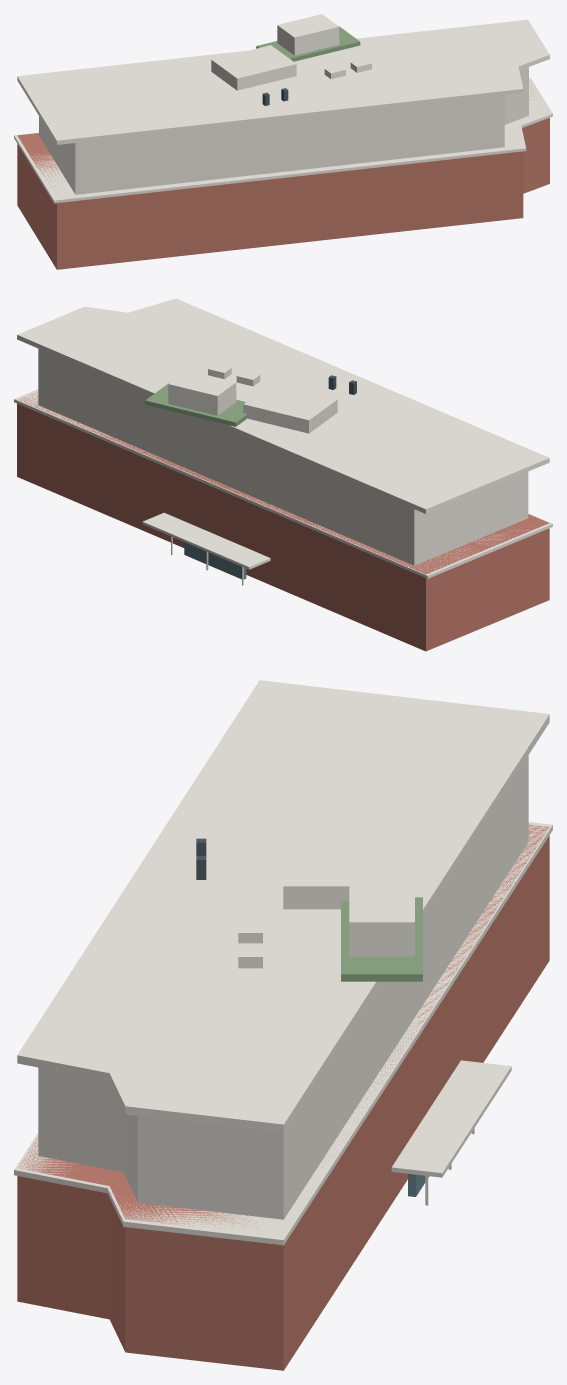
The model's file is chung_sze_yuen_building.glb.
3 views of the same model, one above another, from view 1: azimuth 30°, elevation 25°; view 2: azimuth 150°, elevation 25°; view 3: azimuth 270°, elevation 25° (orthographic). The views are drawn at different scales.
Visible parts, largest first — view 1: Chung Sze Yuen Building_base, Chung Sze Yuen Building_parapet, Chung Sze Yuen Building_upper, Chung Sze Yuen Building_band, Chung Sze Yuen Building_roof_plant, Chung Sze Yuen Building_pavilion, Chung Sze Yuen Building_garden; view 2: Chung Sze Yuen Building_base, Chung Sze Yuen Building_parapet, Chung Sze Yuen Building_upper, Chung Sze Yuen Building_band, Chung Sze Yuen Building_roof_plant, Chung Sze Yuen Building_canopy, Chung Sze Yuen Building_pavilion, Chung Sze Yuen Building_garden, Chung Sze Yuen Building_door; view 3: Chung Sze Yuen Building_parapet, Chung Sze Yuen Building_base, Chung Sze Yuen Building_upper, Chung Sze Yuen Building_band, Chung Sze Yuen Building_roof_plant, Chung Sze Yuen Building_canopy, Chung Sze Yuen Building_pavilion, Chung Sze Yuen Building_garden.
Boxes of the visible parts, box(x1,y1,x2,y2) form: Chung Sze Yuen Building_base: box(17, 88, 549, 269); Chung Sze Yuen Building_parapet: box(17, 19, 549, 144); Chung Sze Yuen Building_upper: box(39, 67, 528, 194); Chung Sze Yuen Building_band: box(14, 78, 552, 203); Chung Sze Yuen Building_roof_plant: box(211, 45, 296, 90); Chung Sze Yuen Building_pavilion: box(277, 14, 339, 55); Chung Sze Yuen Building_garden: box(256, 26, 360, 61); Chung Sze Yuen Building_base: box(17, 392, 549, 651); Chung Sze Yuen Building_parapet: box(17, 298, 549, 513); Chung Sze Yuen Building_upper: box(38, 348, 528, 565); Chung Sze Yuen Building_band: box(14, 389, 552, 578); Chung Sze Yuen Building_roof_plant: box(243, 383, 337, 433); Chung Sze Yuen Building_canopy: box(142, 512, 270, 569); Chung Sze Yuen Building_pavilion: box(168, 370, 236, 415); Chung Sze Yuen Building_garden: box(145, 383, 247, 426); Chung Sze Yuen Building_door: box(184, 542, 246, 579); Chung Sze Yuen Building_parapet: box(17, 680, 549, 1132); Chung Sze Yuen Building_base: box(17, 824, 549, 1370); Chung Sze Yuen Building_upper: box(38, 755, 528, 1219); Chung Sze Yuen Building_band: box(14, 822, 552, 1245); Chung Sze Yuen Building_roof_plant: box(283, 830, 381, 909); Chung Sze Yuen Building_canopy: box(391, 1060, 511, 1177); Chung Sze Yuen Building_pavilion: box(349, 880, 414, 956); Chung Sze Yuen Building_garden: box(341, 897, 422, 981).
Size of the model in its own units: 64.82 by 19.4 by 32.83.
